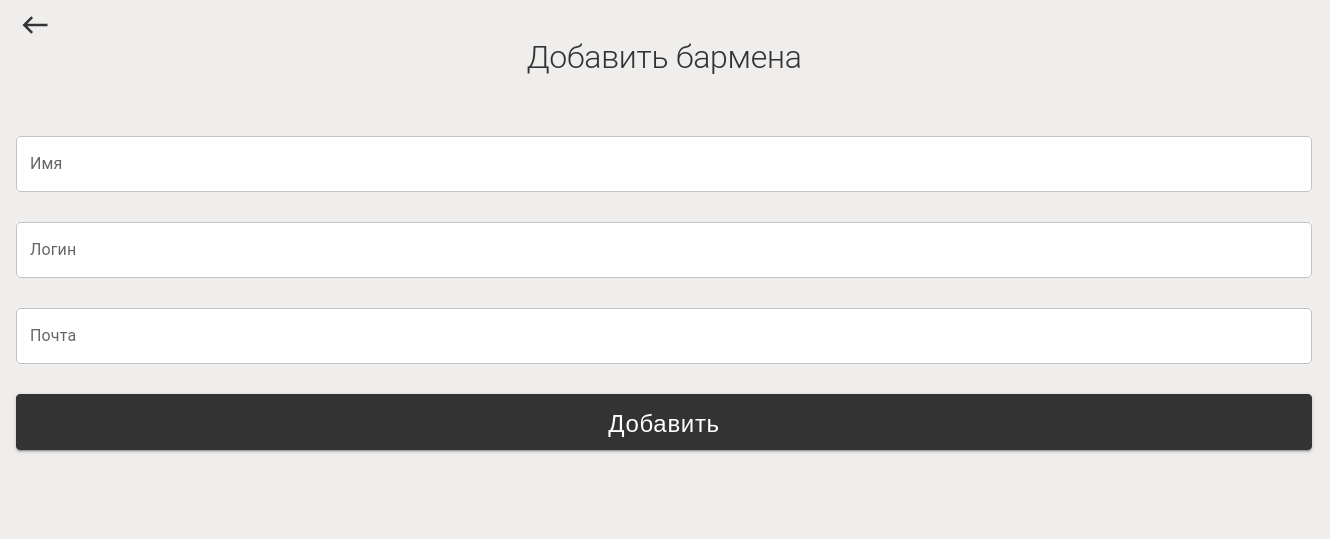
Test: AdminRegisterBarmanForm › показывает ошибки валидации при пустых полях
Click the button "Добавить": (664, 422) [16,394,1312,450]
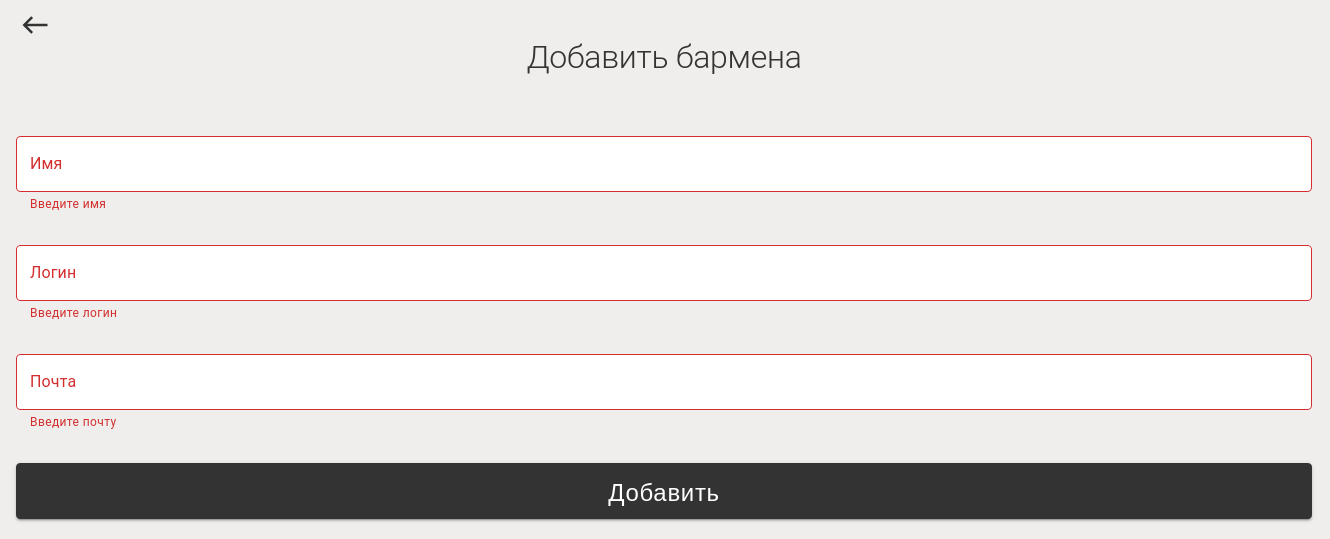
Check: the text "Введите имя" is shown, box [30,197,106,211]
Check: the text "Введите логин" is shown, box [30,306,117,320]
Check: the text "Введите почту" is shown, box [30,415,116,429]
